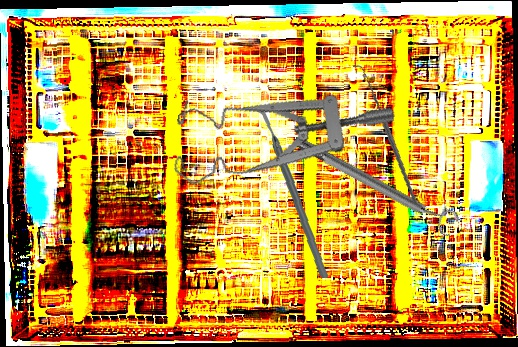Chopper: (243, 105, 337, 279)
Fixation Ring: (288, 125, 462, 241)
Hook Surgical: (333, 64, 438, 205)
Speculum: (162, 55, 398, 229)
